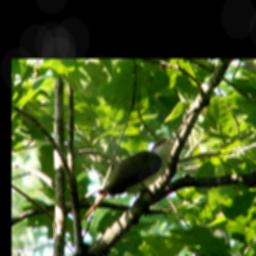Cuckoo: (79, 135, 177, 221)
